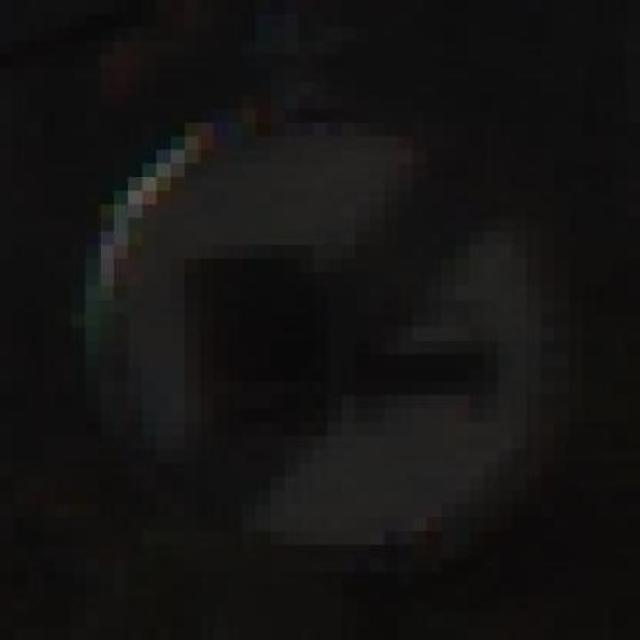Overtaking by trucks is prohibited: (71, 54, 612, 586)
